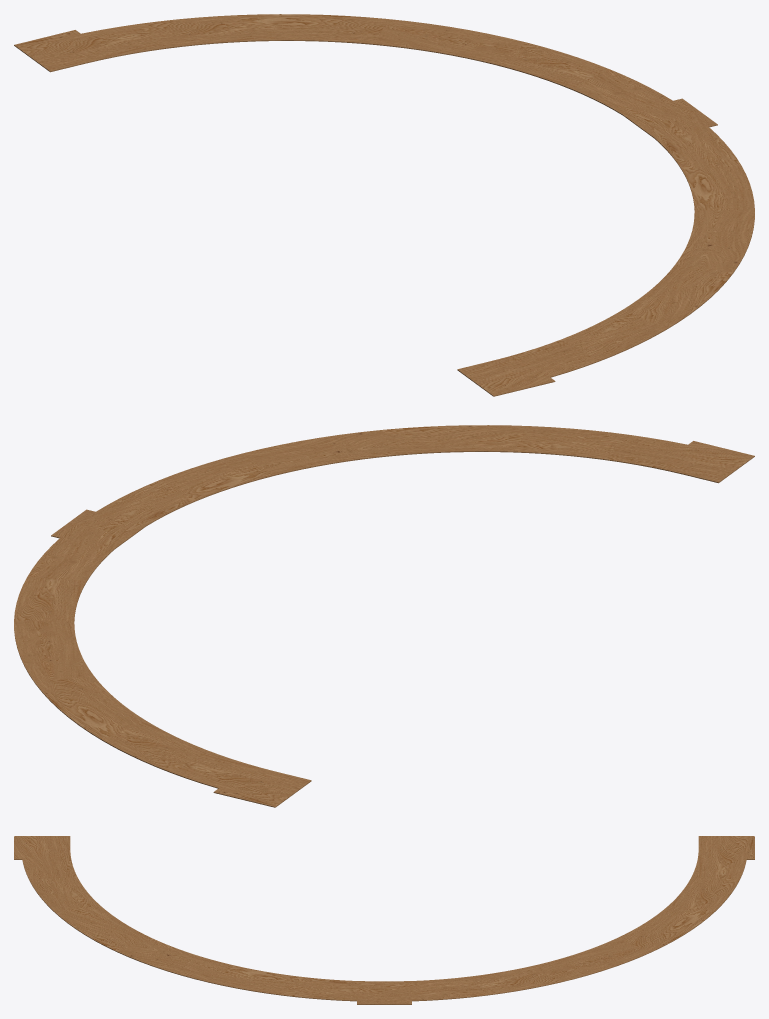
File: mesh_com_bs_floor.glb
The picture shows the model from 3 angles, top to bottom: view 1: azimuth 30°, elevation 25°; view 2: azimuth 150°, elevation 25°; view 3: azimuth 270°, elevation 25°; orthographic projection. The views are drawn at different scales.
Parts seen in each view (by area): view 1: mesh_com_bs_floor; view 2: mesh_com_bs_floor; view 3: mesh_com_bs_floor.
Part boxes in pixels (x1=…): mesh_com_bs_floor: x1=14, y1=14, x2=754, y2=396; mesh_com_bs_floor: x1=14, y1=425, x2=754, y2=807; mesh_com_bs_floor: x1=14, y1=836, x2=754, y2=1004.
Size of the model in its own units: 23.11 by 0.0449 by 43.02.
Materials: 1 (1 with a texture image).
